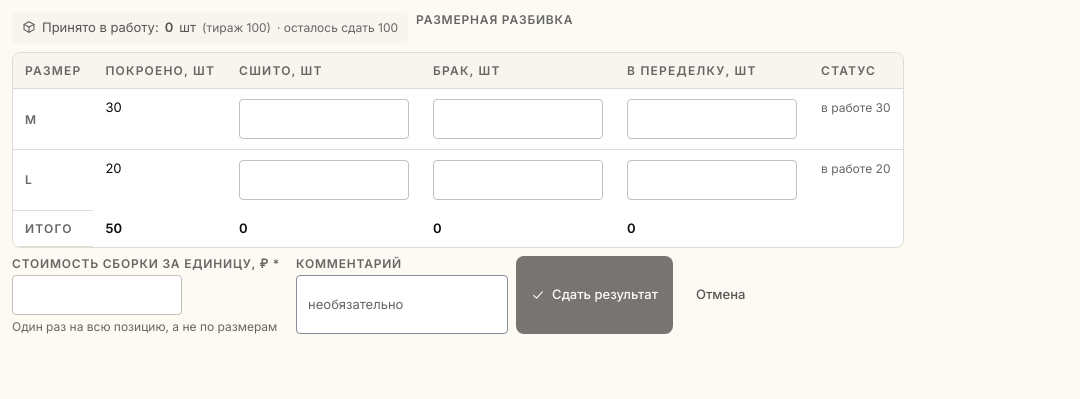
it: швейка: размеры и стоимость сборки без размерной сетки позиции › сшито больше покроенного — поле помечено ошибкой и названа причина
The width and height of the screenshot is (1080, 399).
Type "40" into the number field named "M, Сшито, шт" at (324, 119), box x1=239 y1=99 x2=409 y2=139
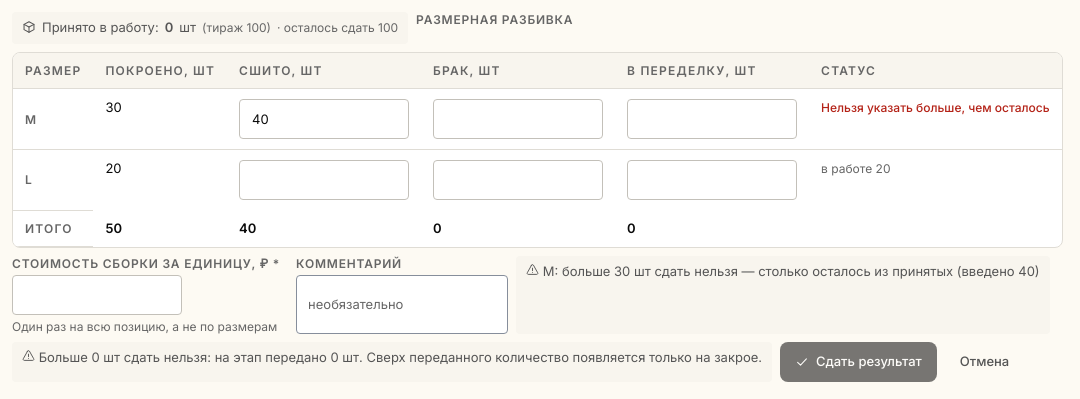
Expected: the button "Сдать результат" is disabled, x1=780 y1=342 x2=937 y2=382
Result: the text "Нельзя указать больше, чем осталось" is shown at x1=821 y1=100 x2=1050 y2=115
